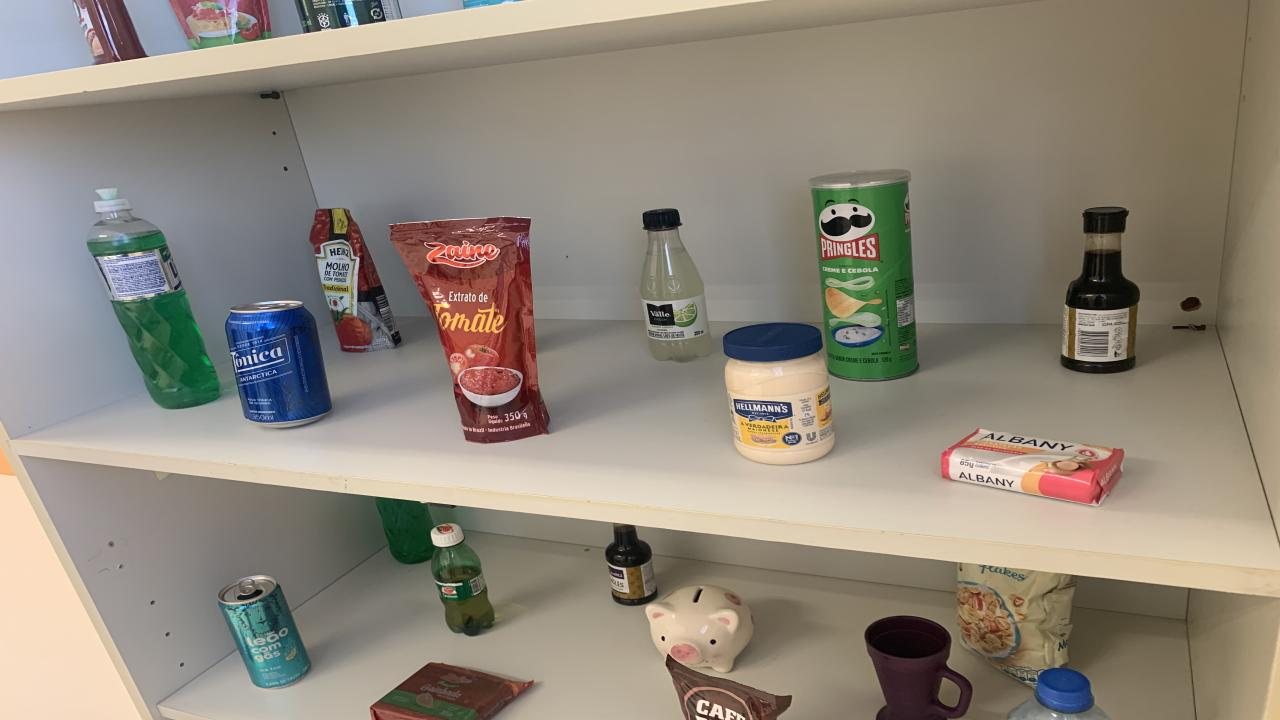Cleaner-Cleanup_Items: (462, 0, 518, 9)
Coffee-Pantry_Items: (665, 656, 792, 720)
Detergent-Cleanup_Items: (88, 188, 220, 409), (375, 497, 435, 564)
English_Sauce-Pantry_Items: (1060, 206, 1140, 373), (605, 523, 658, 606)
Flakes-Snacks: (958, 562, 1078, 686)
Guarana-Drinks: (430, 523, 495, 636)
Guarana_Can-Drinks: (295, 0, 400, 32)
Guava-Snacks: (370, 662, 532, 720)
Ketchup-Pantry_Items: (72, 0, 148, 66)
Mayonnaise-Pantry_Items: (722, 322, 835, 465)
Pig_Safe-Miscellaneous: (645, 585, 752, 673)
Pringles-Snacks: (810, 169, 918, 381)
Soap-Cleanup_Items: (942, 429, 1125, 506)
Soda-Drinks: (640, 208, 712, 362)
Tea-Drinks: (218, 576, 310, 688)
Tomato_Sauce-Pantry_Items: (390, 218, 550, 442), (310, 208, 400, 352), (170, 0, 272, 49)
Tonic-Drinks: (225, 302, 332, 428)
Water_Bottle-Drinks: (1008, 668, 1110, 720)
